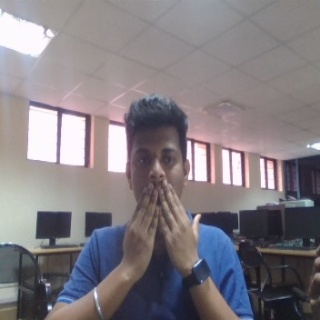Thank You: (122, 179, 203, 276)
